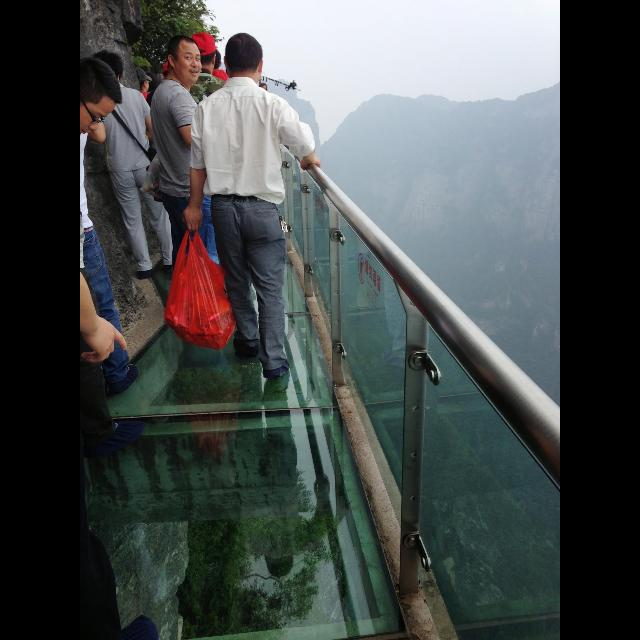head: (80, 56, 120, 140), (80, 57, 118, 137), (223, 32, 264, 84), (167, 35, 203, 87), (94, 54, 122, 88), (189, 38, 217, 70)
person: (182, 29, 322, 380), (80, 53, 162, 465), (80, 41, 158, 471), (148, 32, 238, 358), (80, 47, 184, 279), (168, 31, 240, 332)
